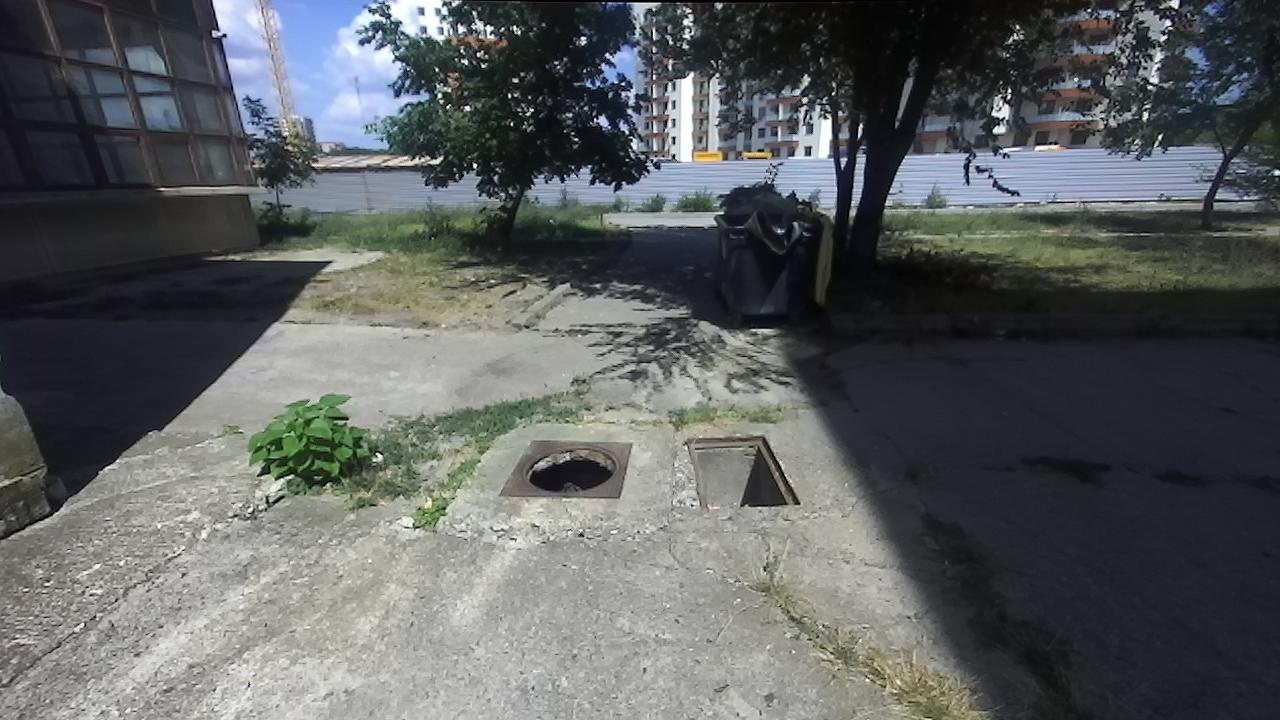drain: (680, 430, 805, 514), (512, 441, 621, 494)
